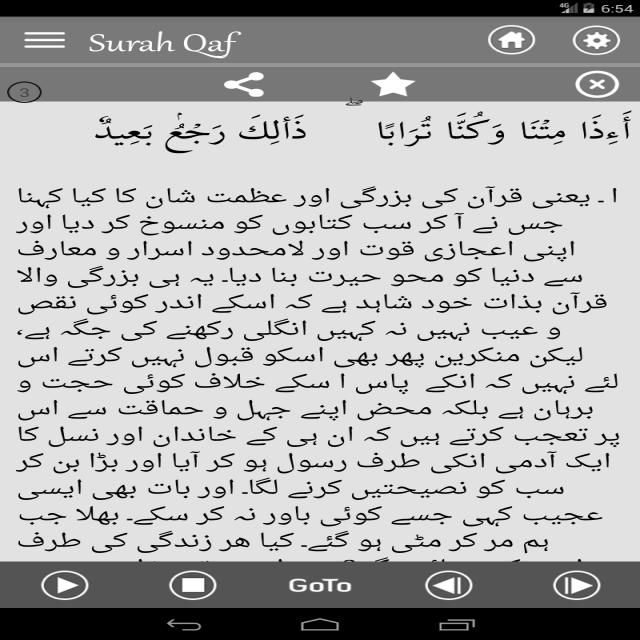ImageButton: (44, 571, 144, 599), (366, 71, 431, 107), (210, 67, 271, 103), (414, 575, 488, 603), (158, 576, 222, 608), (488, 21, 538, 54), (5, 24, 66, 50), (569, 28, 620, 56), (569, 68, 618, 95), (542, 574, 596, 598)
TextView: (4, 179, 627, 553), (361, 115, 633, 156), (87, 107, 315, 155), (90, 31, 246, 61)
